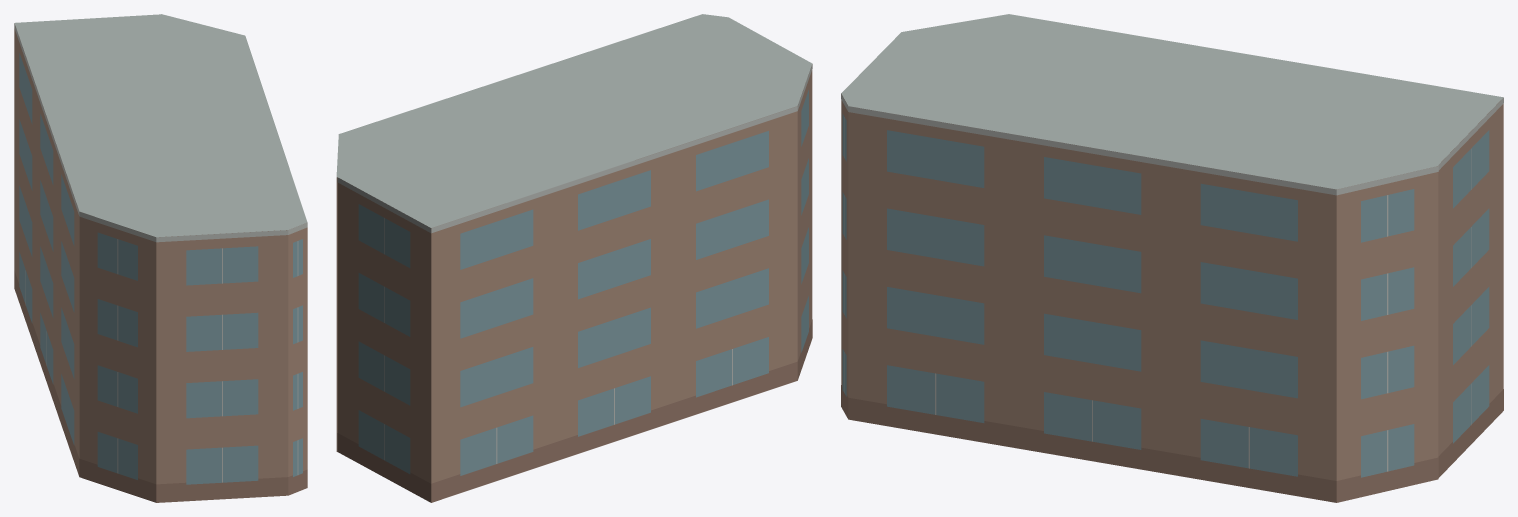
The model's file is survey-upis-32887450.glb.
3 renders of one model, left to right at view 1: azimuth 30°, elevation 25°; view 2: azimuth 150°, elevation 25°; view 3: azimuth 270°, elevation 25°, orthographic. The views are drawn at different scales.
Parts seen in each view (by area): view 1: survey-upis-32887450.tmp; view 2: survey-upis-32887450.tmp; view 3: survey-upis-32887450.tmp.
Part boxes in pixels (x1,y1,x2,y2): survey-upis-32887450.tmp: (14,14,307,502); survey-upis-32887450.tmp: (336,14,812,502); survey-upis-32887450.tmp: (841,14,1503,502).
Bounding box in the file's own units: 15.5 × 12.9 × 24.72.
